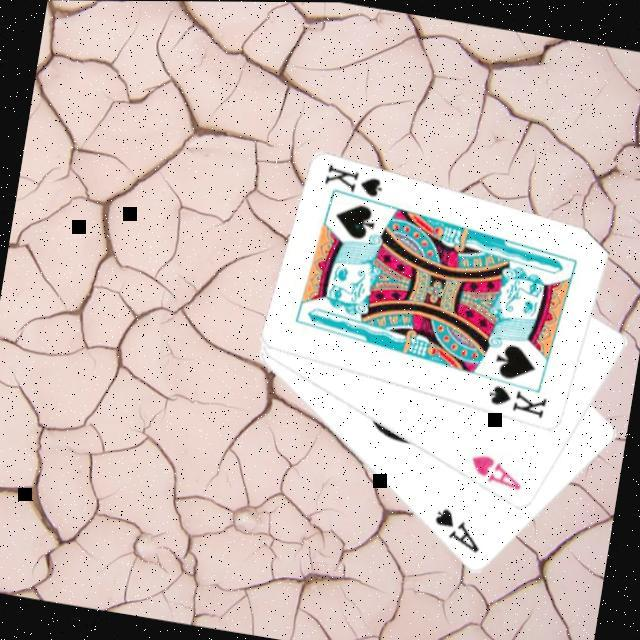AH: (464, 448, 530, 492)
AS: (427, 500, 489, 554)
KS: (321, 158, 394, 206), (484, 378, 552, 421)
